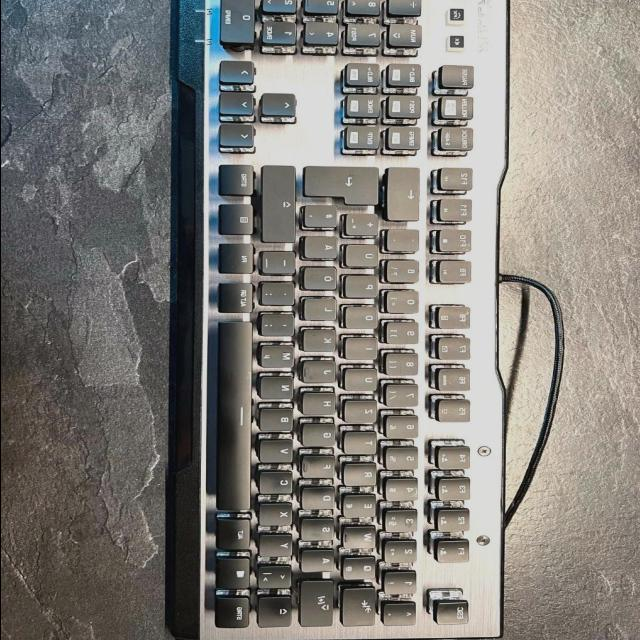0: (387, 292, 423, 316)
1: (386, 573, 421, 598)
2: (385, 542, 421, 566)
3: (386, 512, 422, 536)
4: (386, 480, 422, 503)
5: (386, 448, 422, 472)
6: (386, 417, 422, 441)
7: (386, 386, 423, 410)
8: (385, 354, 423, 379)
9: (386, 323, 423, 348)
a: (303, 552, 338, 575)
accent: (387, 231, 423, 255)
ae: (305, 238, 342, 262)
alt-left: (218, 520, 254, 552)
altgr-right: (221, 284, 257, 315)
b: (261, 410, 297, 434)
c: (261, 473, 297, 496)
caret: (386, 604, 420, 628)
comma: (262, 315, 299, 340)
d: (303, 489, 338, 512)
del: (388, 170, 424, 224)
e: (344, 497, 380, 521)
enter: (304, 168, 383, 207)
f: (303, 458, 338, 480)
g: (303, 425, 339, 449)
h: (304, 394, 339, 418)
hash: (305, 206, 341, 230)
i: (347, 339, 381, 363)
j: (304, 363, 339, 386)
k: (304, 330, 340, 354)
keyboard: (172, 0, 509, 640)
l: (305, 300, 340, 324)
less: (260, 567, 295, 591)
m: (261, 346, 299, 371)
minus: (263, 253, 299, 277)
n: (261, 377, 297, 402)
o: (346, 308, 381, 332)
oe: (304, 269, 340, 293)
p: (346, 277, 381, 301)
plus: (346, 215, 382, 239)
point: (263, 284, 299, 308)
q: (344, 558, 379, 583)
r: (345, 465, 380, 489)
s: (303, 520, 338, 544)
shift-left: (260, 598, 294, 630)
shift-lock: (301, 581, 337, 629)
shift-right: (263, 167, 299, 245)
space: (217, 322, 256, 515)
ss: (386, 261, 422, 285)
strg-left: (218, 599, 253, 631)
strg-right: (221, 166, 257, 198)
t: (346, 434, 381, 456)
tab: (344, 589, 379, 629)
u: (346, 370, 381, 394)
ue: (346, 246, 382, 270)
v: (262, 441, 297, 465)
w: (345, 528, 381, 552)
x: (261, 505, 295, 528)
y: (261, 536, 296, 560)
z: (346, 402, 381, 426)
